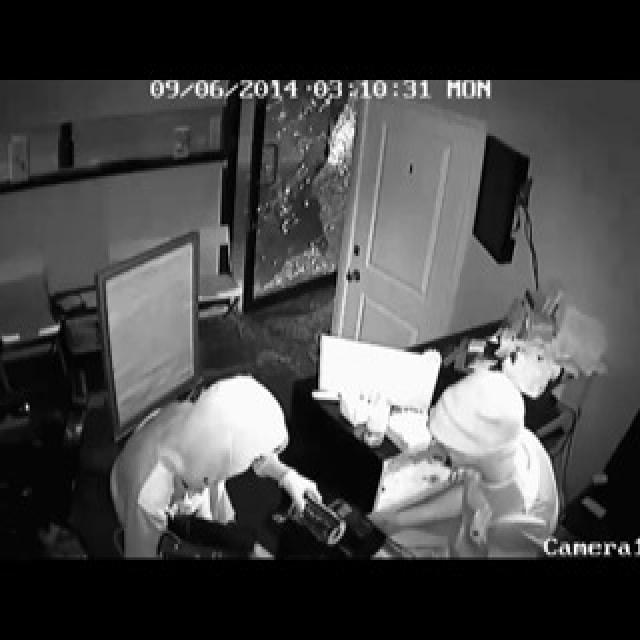thief: (108, 364, 302, 562), (413, 368, 588, 556)
